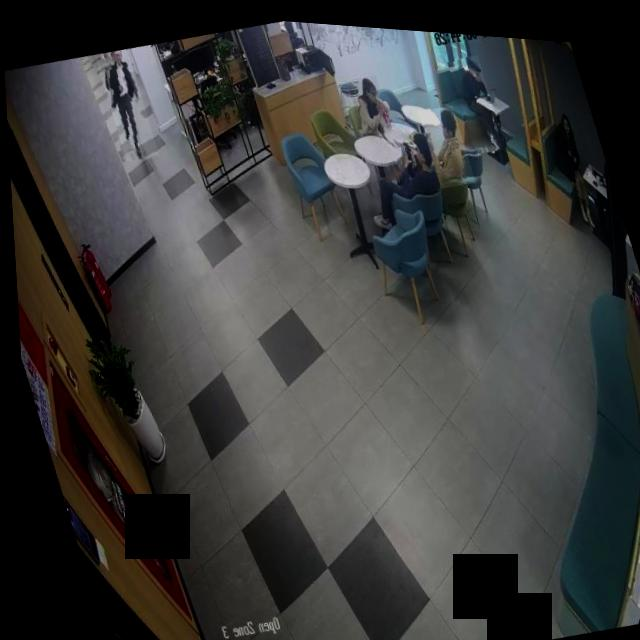person: (93, 44, 158, 161), (447, 45, 505, 148), (415, 95, 473, 184), (384, 118, 444, 191), (345, 67, 392, 133)
